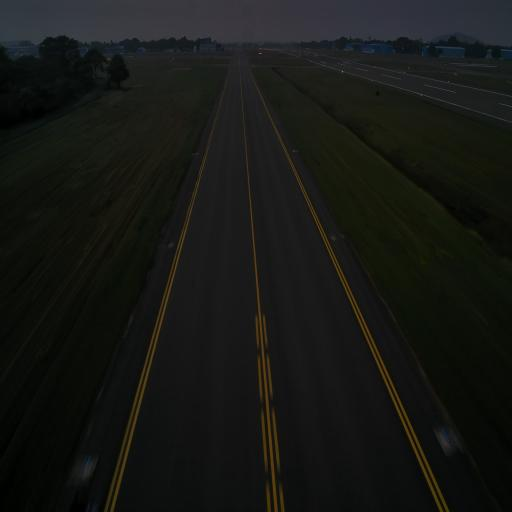on: (80, 452, 93, 479), (440, 424, 451, 446), (294, 147, 296, 151), (197, 150, 198, 156)
